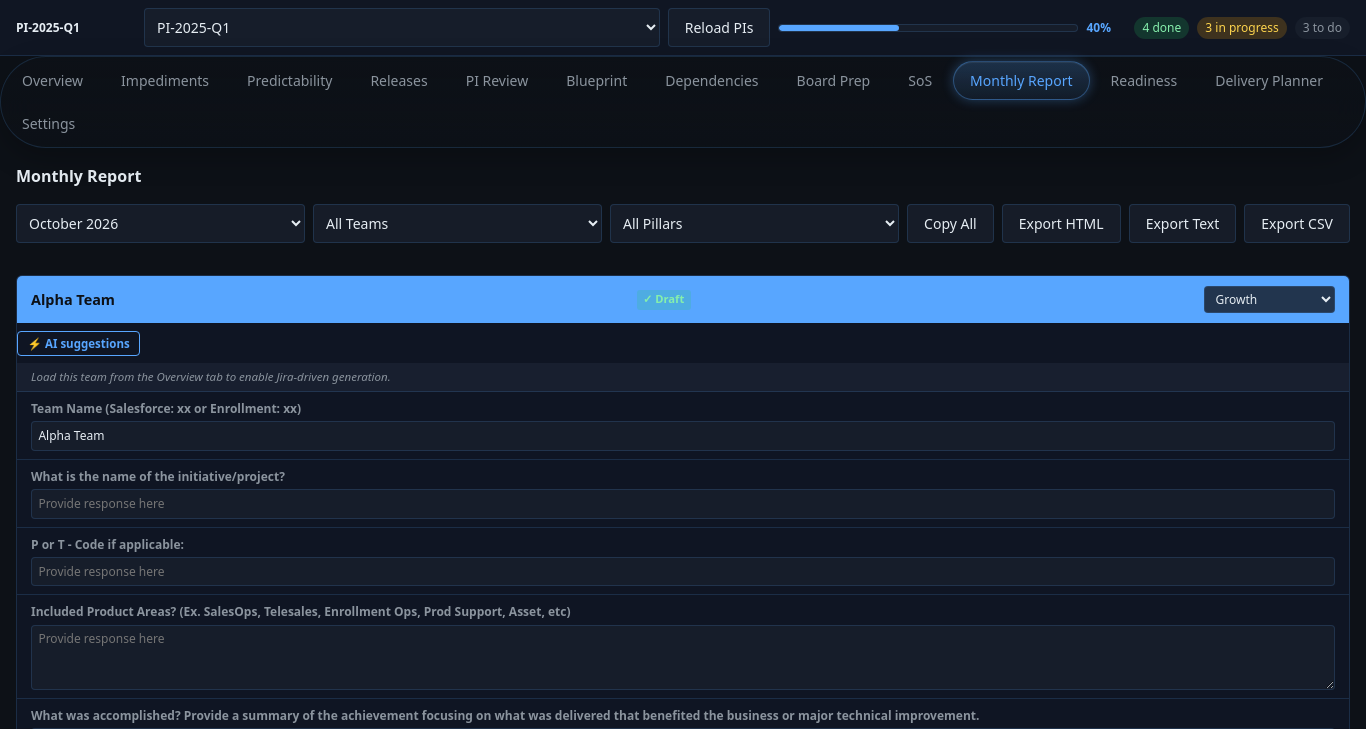
Test case: ArtView › hides a card when the selected pillar does not match it
The image size is (1366, 729).
Select "Affordability" in the dropdown named "filter by pillar" at [755, 224], box x1=610 y1=204 x2=899 y2=243
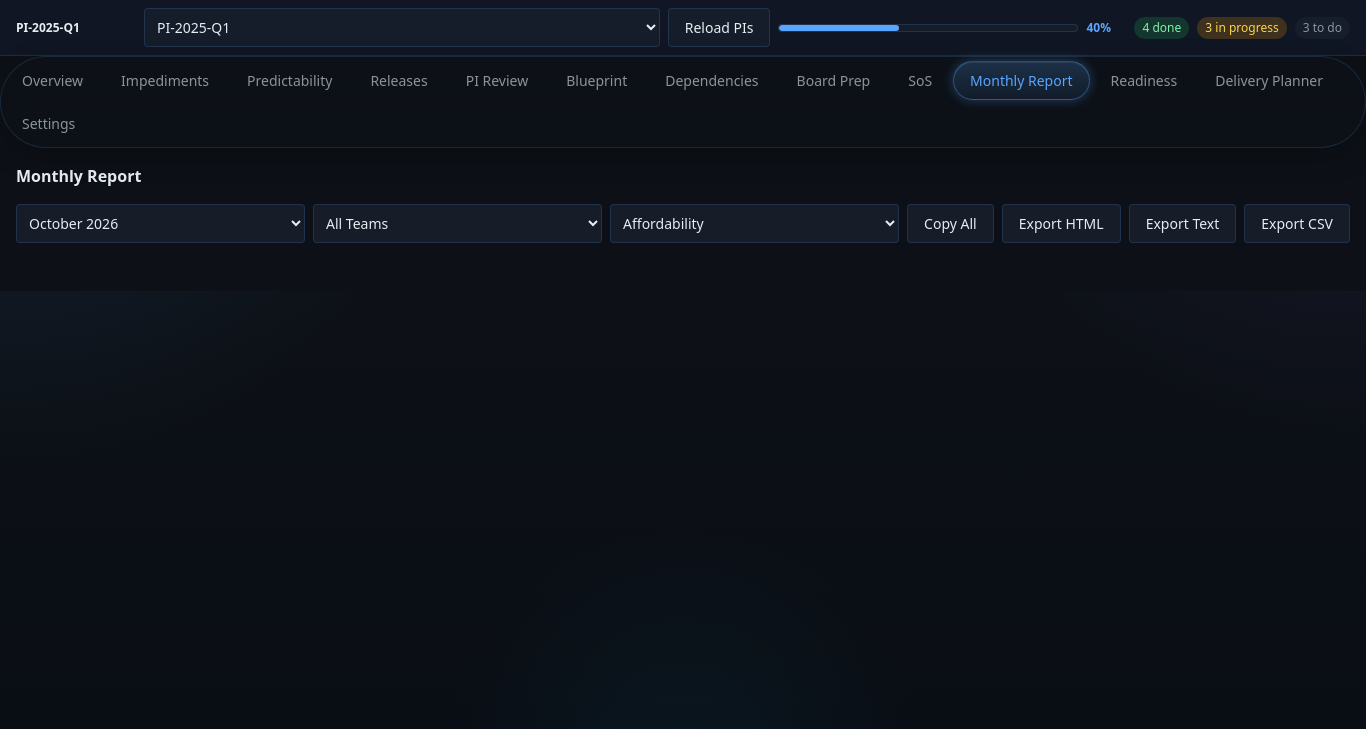
Expected: the label labelled "What is the name of the initiative/project" is gone
